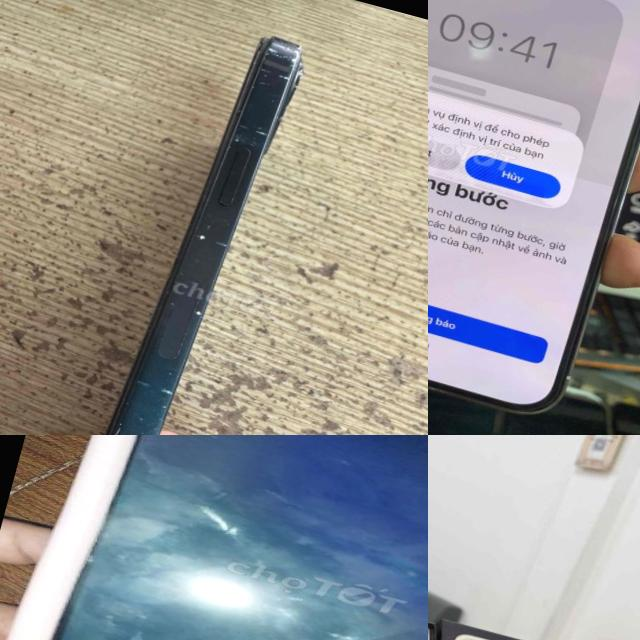scratch: (70, 19, 319, 435), (25, 594, 204, 640)
